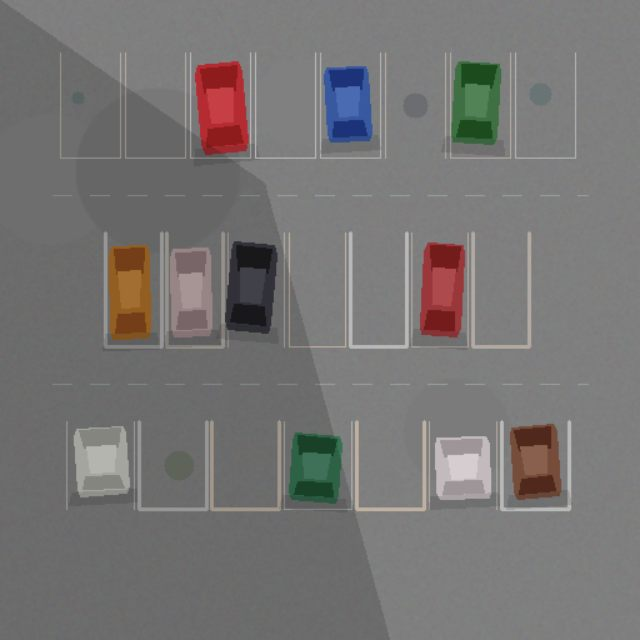space-empty: (289, 232, 345, 346), (350, 232, 406, 346), (473, 232, 529, 346), (60, 52, 120, 157), (125, 52, 185, 157), (255, 52, 315, 157), (385, 52, 445, 157), (515, 52, 575, 157), (211, 421, 279, 509), (356, 421, 424, 509), (139, 421, 206, 509)
space-occupied: (166, 232, 223, 346), (227, 232, 284, 346), (105, 232, 161, 346), (411, 232, 467, 346), (190, 52, 250, 157), (320, 52, 380, 157), (450, 52, 510, 157), (66, 421, 134, 509), (501, 421, 569, 509), (284, 421, 351, 509), (429, 421, 496, 509)
